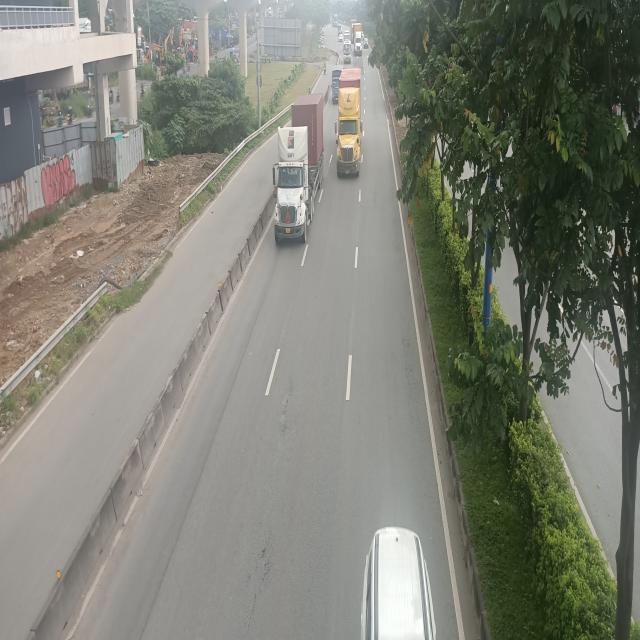container: (273, 95, 323, 243), (336, 68, 363, 178), (353, 26, 363, 58)
